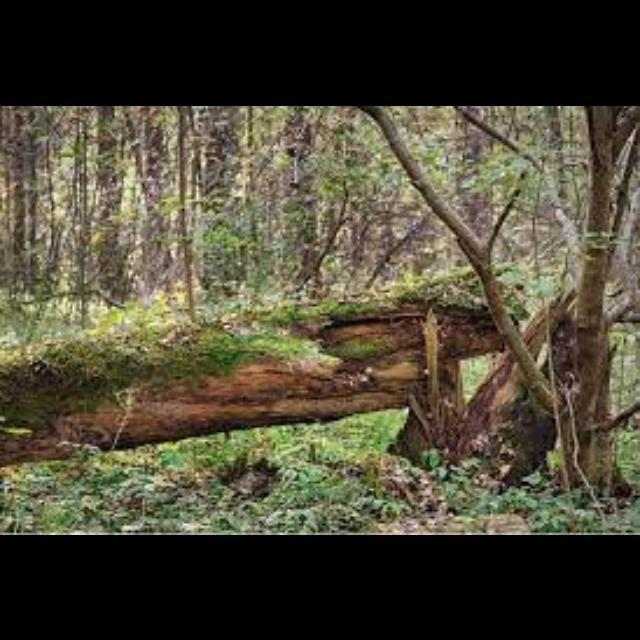fallen_tree: (2, 271, 518, 471)
